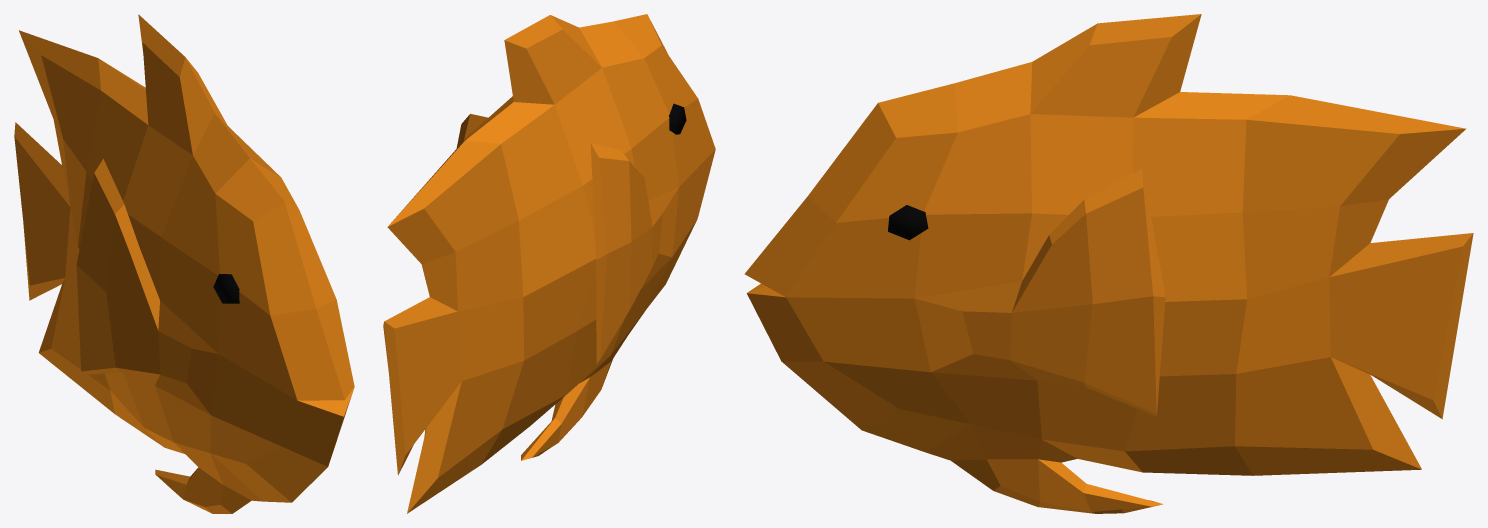
The model's file is fish-1.fbx.
3 views of the same model, side by side, from view 1: azimuth 30°, elevation 25°; view 2: azimuth 150°, elevation 25°; view 3: azimuth 270°, elevation 25° (orthographic). The views are drawn at different scales.
Parts seen in each view (by area): view 1: Cube; view 2: Cube; view 3: Cube.
Part boxes in pixels (x1,y1,x2,y2): Cube: (14, 14, 354, 513); Cube: (383, 14, 715, 513); Cube: (744, 14, 1473, 513).
Size of the model in its own units: 87.32 by 226 by 298.
